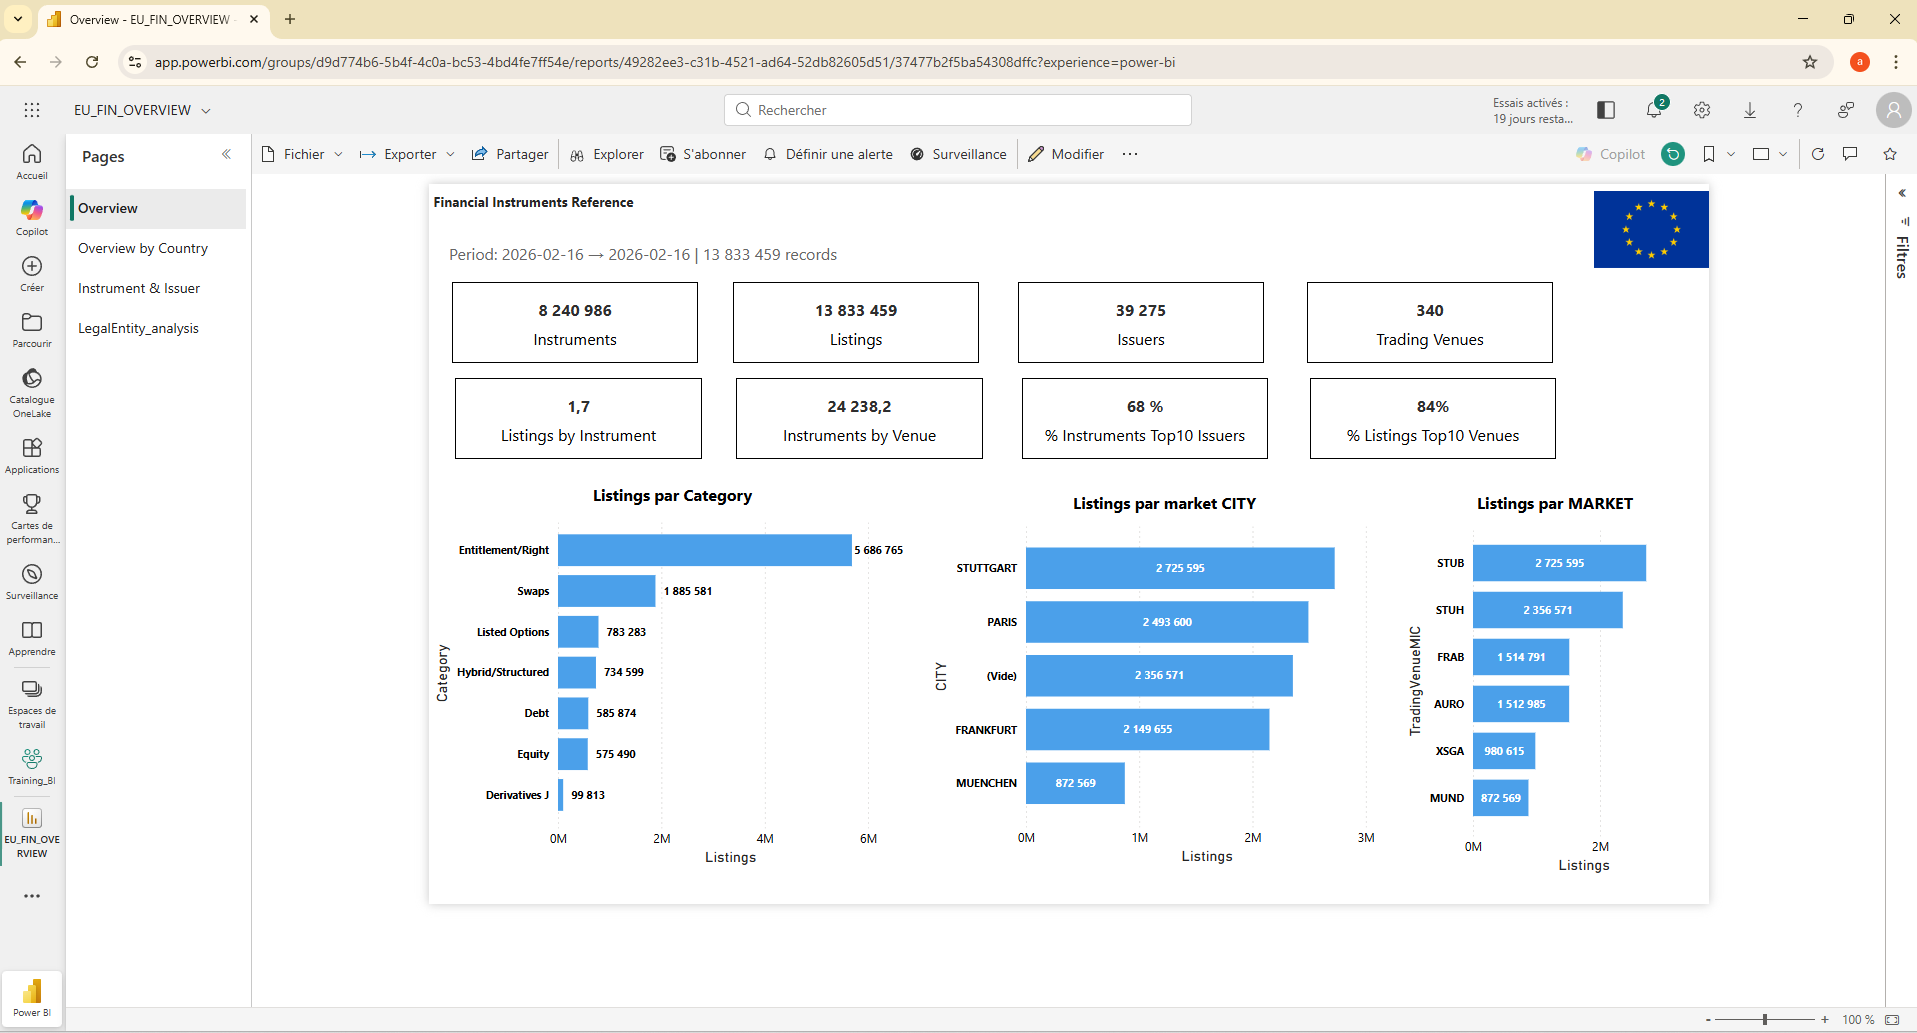

Layout of this report page (visuals, bound fields, positions):
{"tool":"powerbi","page":{"name":"Overview","canvas":[1280,720],"ordinal":0},"visuals":[{"type":"group","id":"g1","title":"Groupe 1","box":[0,3.5,428.3,87.8],"z":0},{"type":"textbox","box":[0,3.5,381.2,47.1],"z":0,"group":"g3"},{"type":"card","fields":{"Values":["Table_Mesures.Overview Subtitle"]},"box":[0,50.2,428.1,41.2],"z":1000,"group":"g3"},{"type":"card","fields":{"Values":["Table_Mesures.Instruments"]},"box":[23,98,246.3,81.1],"z":1000,"group":"g2"},{"type":"barChart","fields":{"Y":["Table_Mesures.Listings"],"Category":["DimCFI.Category"]},"box":[0,300,488,386],"z":1000},{"type":"card","fields":{"Values":["Table_Mesures.Listings"]},"box":[303.9,98,246.3,81.1],"z":2000,"group":"g2"},{"type":"barChart","title":"Listings par MARKET","fields":{"Y":["Table_Mesures.Listings"],"Category":["DimTradingVenue.TradingVenueMIC"]},"box":[972.5,307.5,307.5,386.7],"z":2000},{"type":"card","fields":{"Values":["Table_Mesures.Issuers"]},"box":[589.1,98,246.3,81.1],"z":3000,"group":"g2"},{"type":"barChart","title":"Listings par market CITY","fields":{"Y":["Table_Mesures.Listings"],"Category":["ISO10383_MIC.CITY"]},"box":[499.2,307.5,473.3,377.5],"z":3000},{"type":"group","id":"g2","title":"Groupe 3","box":[23,98,1104,176],"z":4000},{"type":"card","fields":{"Values":["Table_Mesures.Trading Venues"]},"box":[877.6,98,246.3,81.1],"z":4000,"group":"g2"},{"type":"image","box":[1165,0,115,91],"z":5000},{"type":"card","fields":{"Values":["Table_Mesures.Instruments by Venue"]},"box":[307.4,193.5,246.3,81.1],"z":5000,"group":"g2"},{"type":"card","fields":{"Values":["Table_Mesures.Listings by Instrument"]},"box":[26.5,193.5,246.3,81.1],"z":6000,"group":"g2"},{"type":"card","fields":{"Values":["Table_Mesures.% Instruments Top10 Issuers"]},"box":[592.6,193.5,246.3,81.1],"z":7000,"group":"g2"},{"type":"card","fields":{"Values":["Table_Mesures.% Listings Top10 Venues"]},"box":[881.1,193.5,246.3,81.1],"z":8000,"group":"g2"},{"type":"group","id":"g3","title":"Groupe 2","box":[0,3.5,428.1,87.8],"z":9001,"group":"g1"}]}

Visuals, with their boxes on the page's 1280x720 design canvas (x1, y1, x2, y2). These are canvas units, not pixel positions in the 1917x1033 screenshot, which may show the page scaled, cropped or inside an application window:
"Groupe 1" group: (0, 4, 428, 91)
textbox: (0, 4, 381, 51)
card - Table_Mesures.Overview Subtitle: (0, 50, 428, 91)
card - Table_Mesures.Instruments: (23, 98, 269, 179)
barChart - Table_Mesures.Listings x DimCFI.Category: (0, 300, 488, 686)
card - Table_Mesures.Listings: (304, 98, 550, 179)
"Listings par MARKET" barChart: (972, 308, 1280, 694)
card - Table_Mesures.Issuers: (589, 98, 835, 179)
"Listings par market CITY" barChart: (499, 308, 972, 685)
"Groupe 3" group: (23, 98, 1127, 274)
card - Table_Mesures.Trading Venues: (878, 98, 1124, 179)
image: (1165, 0, 1280, 91)
card - Table_Mesures.Instruments by Venue: (307, 194, 554, 275)
card - Table_Mesures.Listings by Instrument: (26, 194, 273, 275)
card - Table_Mesures.% Instruments Top10 Issuers: (593, 194, 839, 275)
card - Table_Mesures.% Listings Top10 Venues: (881, 194, 1127, 275)
"Groupe 2" group: (0, 4, 428, 91)
